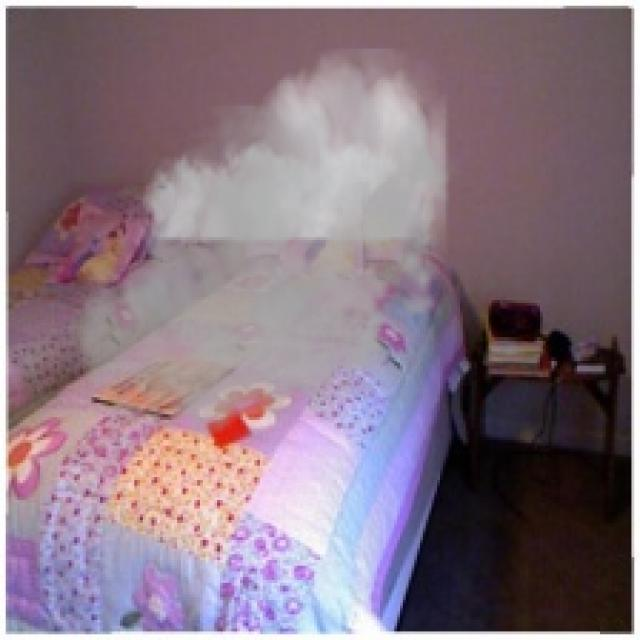Smoke: (68, 49, 463, 452)
